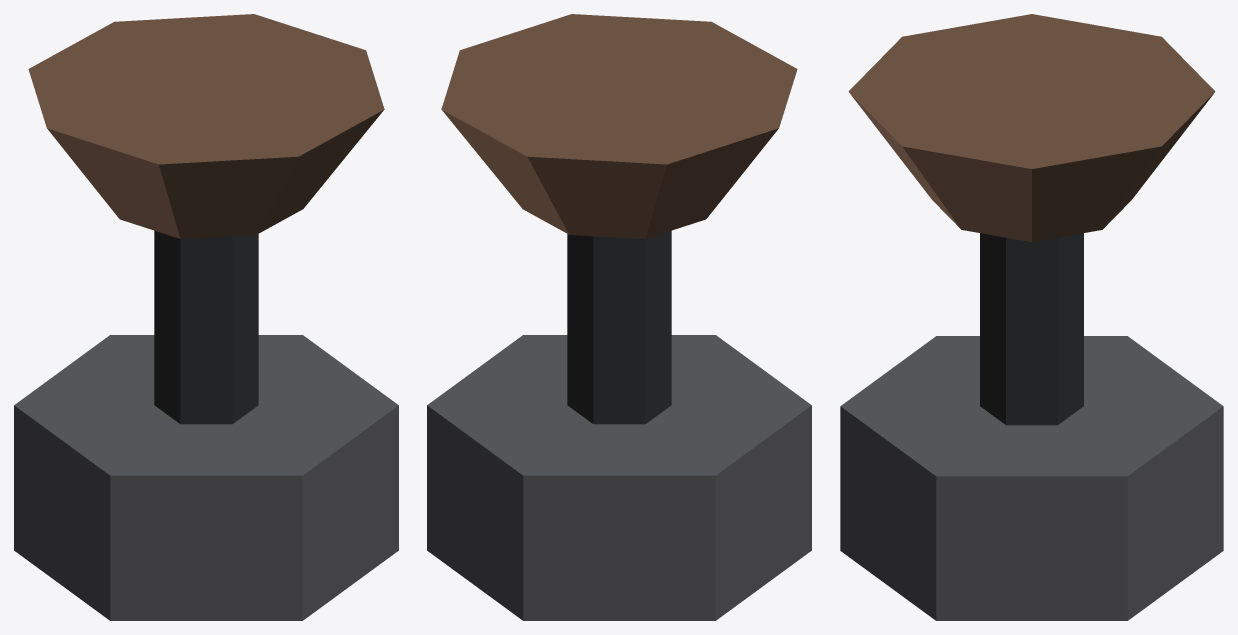
Rendered from suporte-tocha.glb.
3 views of the same model, side by side, from view 1: azimuth 30°, elevation 25°; view 2: azimuth 150°, elevation 25°; view 3: azimuth 270°, elevation 25° (orthographic).
Visible parts, largest first — view 1: suporte-base, suporte-taca, suporte-poste; view 2: suporte-base, suporte-taca, suporte-poste; view 3: suporte-base, suporte-taca, suporte-poste.
Boxes of the visible parts, bbox=[...] form: suporte-base: bbox=[14, 335, 398, 620]; suporte-taca: bbox=[28, 14, 384, 238]; suporte-poste: bbox=[154, 230, 258, 424]; suporte-base: bbox=[427, 335, 811, 620]; suporte-taca: bbox=[441, 14, 797, 238]; suporte-poste: bbox=[567, 230, 671, 424]; suporte-base: bbox=[840, 336, 1223, 620]; suporte-taca: bbox=[848, 14, 1215, 241]; suporte-poste: bbox=[980, 233, 1083, 425].
Size of the model in its own units: 0.92 by 1.27 by 0.96.
3 materials, 3 textured.
